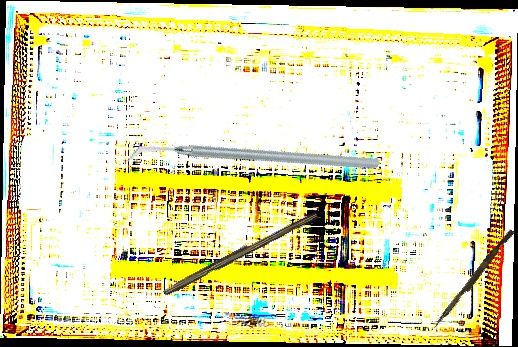Chopper: (125, 56, 381, 264)
Pusher: (432, 226, 515, 333)
Scalpel Handle: (161, 207, 319, 299)
